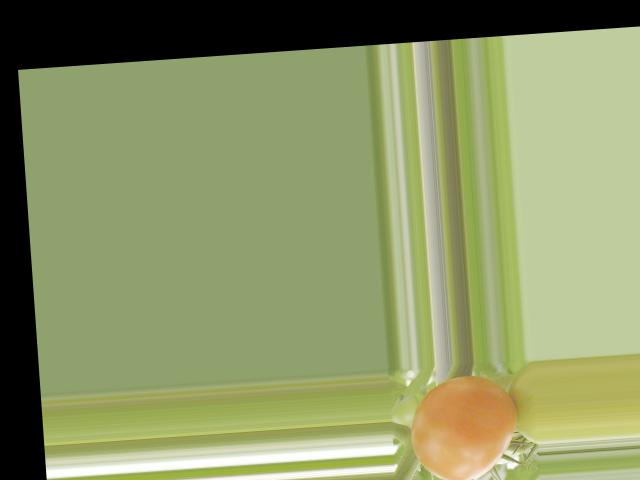tomato: (407, 372, 521, 480)
